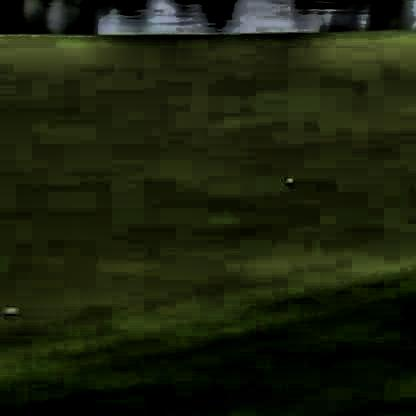golfball: (283, 173, 293, 183)
